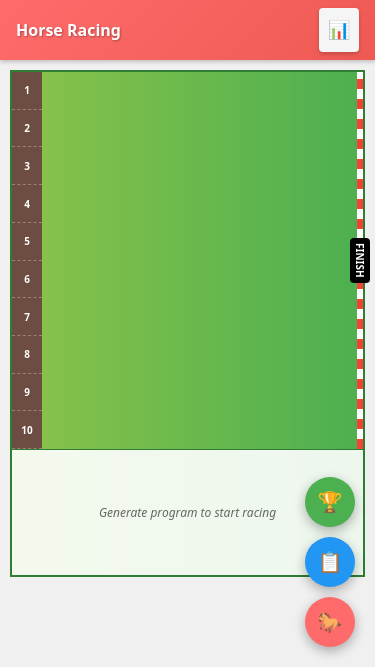
Test: Mobile Horse Racing Application › Mobile Header Controls › should show correct mobile icons for race states
The image size is (375, 667).
Check: the icon with class "mobile-icon" reads "📊", box [328,19,351,41]
Note: After generating program
Click the button with class "generate-btn": click(339, 30) [319,8,359,52]
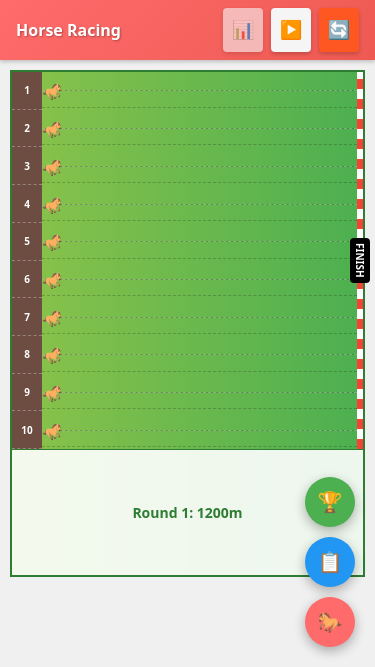
Check: the icon with class "mobile-icon" reads "▶️", box [280,19,303,41]
Note: During race
Click the button with class "race-btn": click(291, 30) [271,8,311,52]
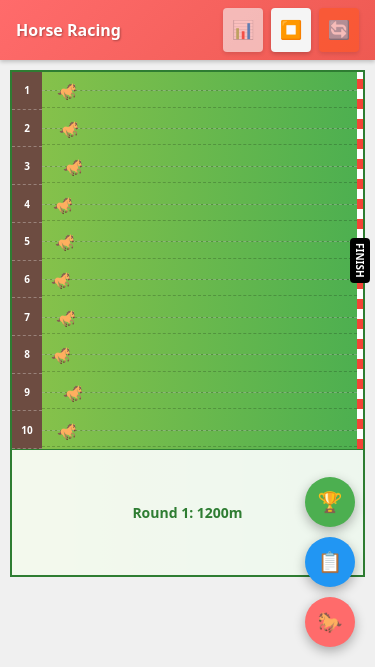
Check: the icon with class "mobile-icon" reads "⏹️", box [280,19,303,41]
